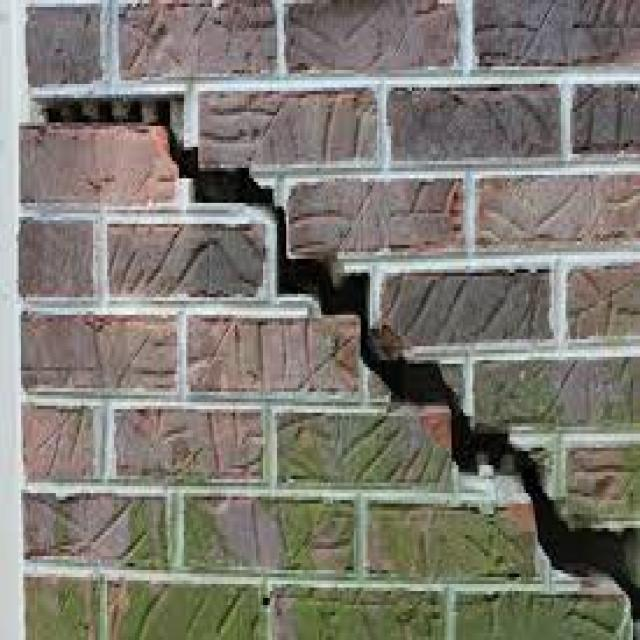Crack: (16, 88, 638, 636)
